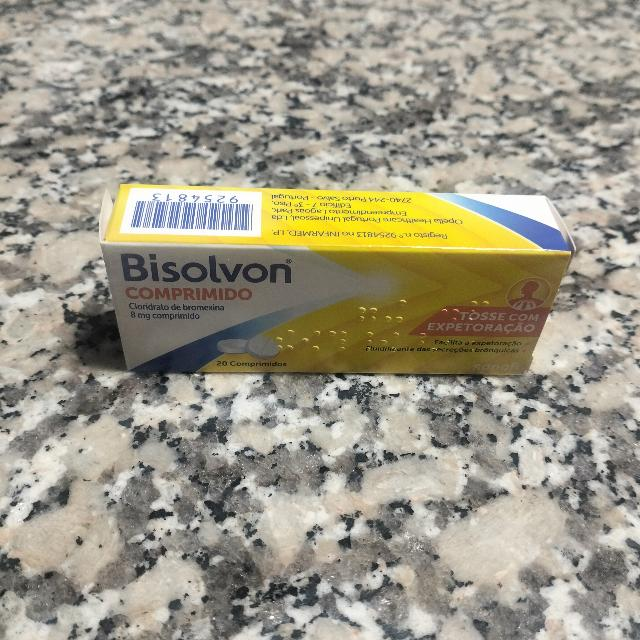caixa: (99, 180, 577, 378)
